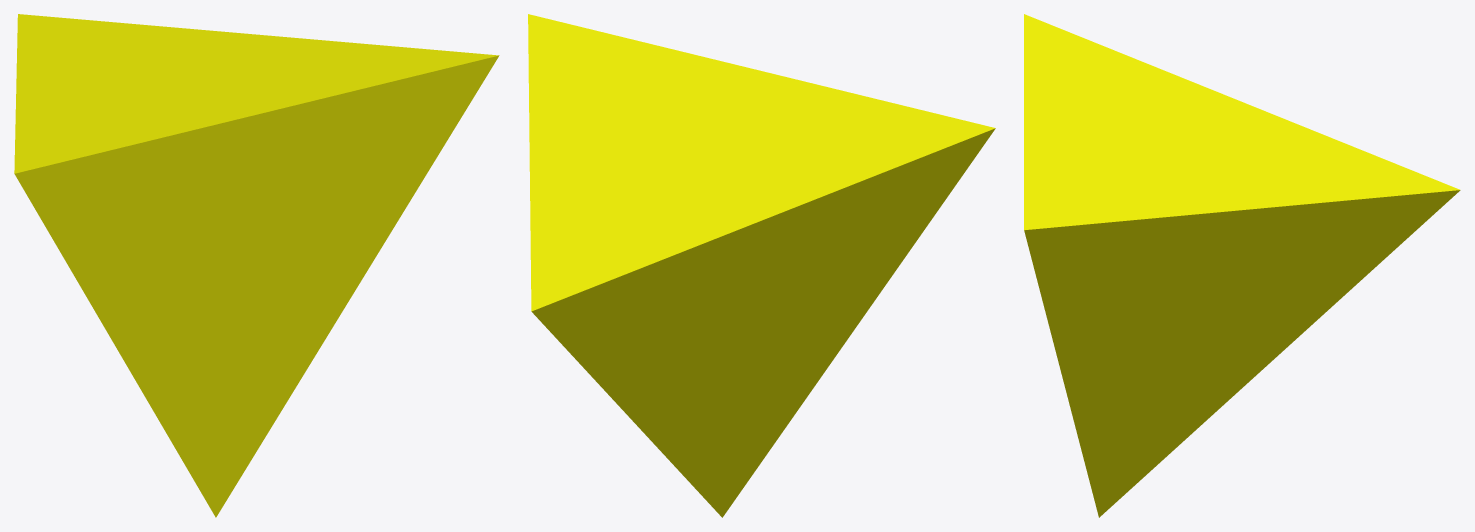
File: tetrahedron Ramesh.dae
3 renders of one model, left to right at view 1: azimuth 30°, elevation 25°; view 2: azimuth 150°, elevation 25°; view 3: azimuth 270°, elevation 25°, orthographic. The views are drawn at different scales.
Parts seen in each view (by area): view 1: box; view 2: box; view 3: box.
Boxes of the visible parts, x1,y1,x2,y2 form: box: (14,14,499,517); box: (528,14,995,517); box: (1024,14,1460,517).
Bounding box in the file's own units: 1.41 × 1.21 × 1.21.
